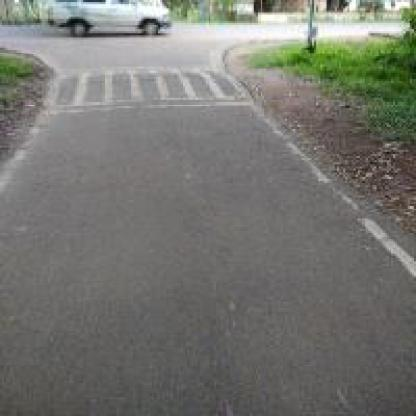Speed Bump: (44, 66, 256, 116)
